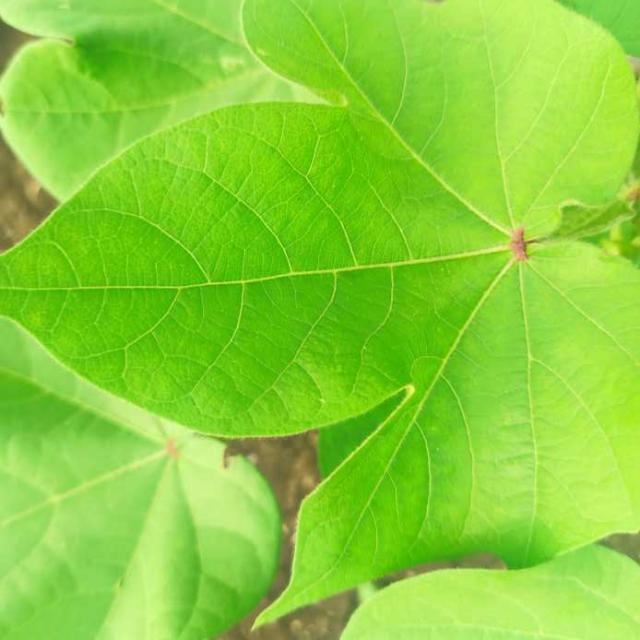Healthy Leaf: (7, 10, 640, 640)
